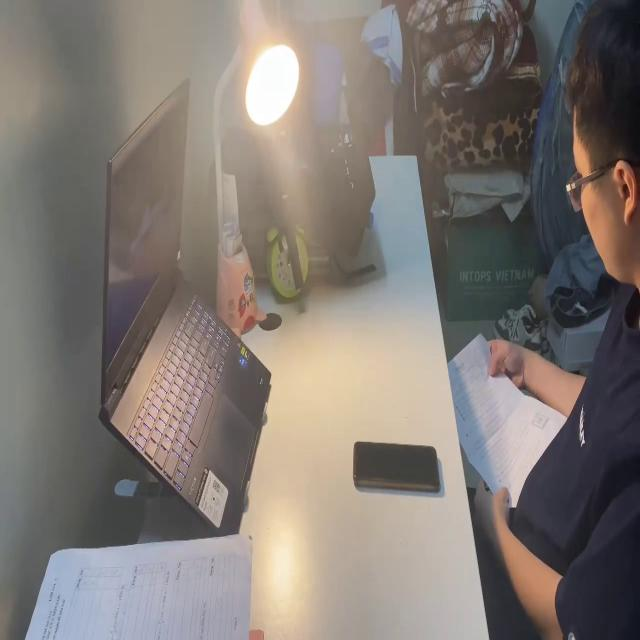book: (22, 530, 263, 640), (450, 323, 578, 498)
laptop: (95, 74, 275, 532)
phone: (352, 438, 442, 495)
student: (467, 34, 640, 640)
